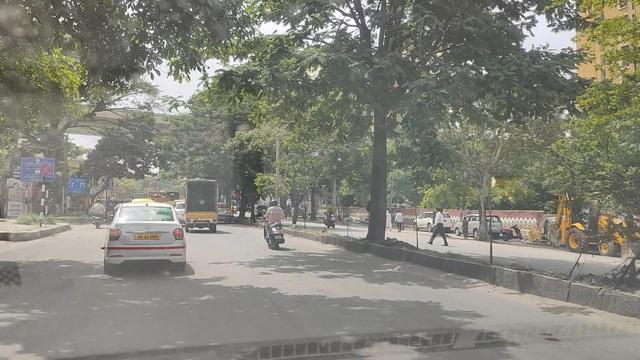LMV: (101, 197, 186, 269), (260, 194, 288, 250)
